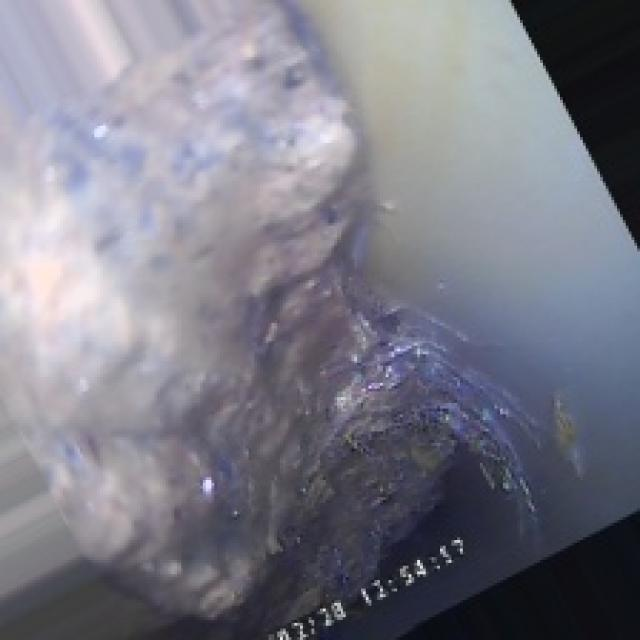sluge accumulation: (80, 80, 486, 554)
